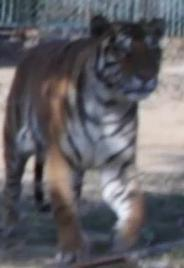tiger: (6, 14, 163, 263)
